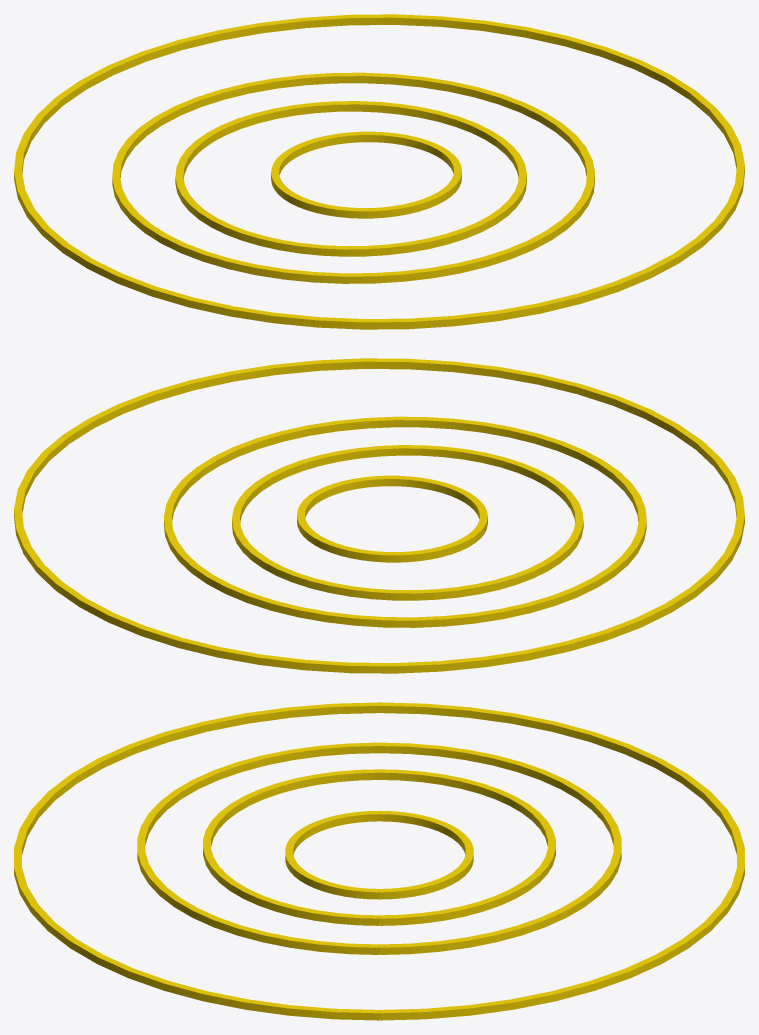
File: orbits.dae
The picture shows the model from 3 angles, top to bottom: view 1: azimuth 30°, elevation 25°; view 2: azimuth 150°, elevation 25°; view 3: azimuth 270°, elevation 25°; orthographic projection.
Visible parts, largest first — view 1: Mars, Earth, Venus, Mercury; view 2: Mars, Earth, Venus, Mercury; view 3: Mars, Earth, Venus, Mercury.
Part boxes in pixels (x1=…): Mars: x1=14, y1=14, x2=744, y2=329; Earth: x1=112, y1=72, x2=594, y2=283; Venus: x1=175, y1=101, x2=526, y2=256; Mercury: x1=271, y1=131, x2=461, y2=218; Mars: x1=14, y1=358, x2=744, y2=673; Earth: x1=164, y1=416, x2=646, y2=627; Venus: x1=232, y1=445, x2=583, y2=600; Mercury: x1=297, y1=475, x2=487, y2=562; Mars: x1=14, y1=702, x2=744, y2=1020; Earth: x1=137, y1=742, x2=621, y2=954; Venus: x1=203, y1=769, x2=555, y2=925; Mercury: x1=285, y1=810, x2=473, y2=899.
Size of the model in its own units: 46.09 by 0.5 by 45.8.
